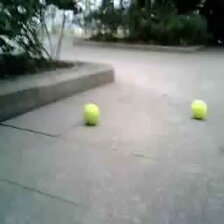tennis: (82, 103, 100, 124), (191, 100, 208, 119)
